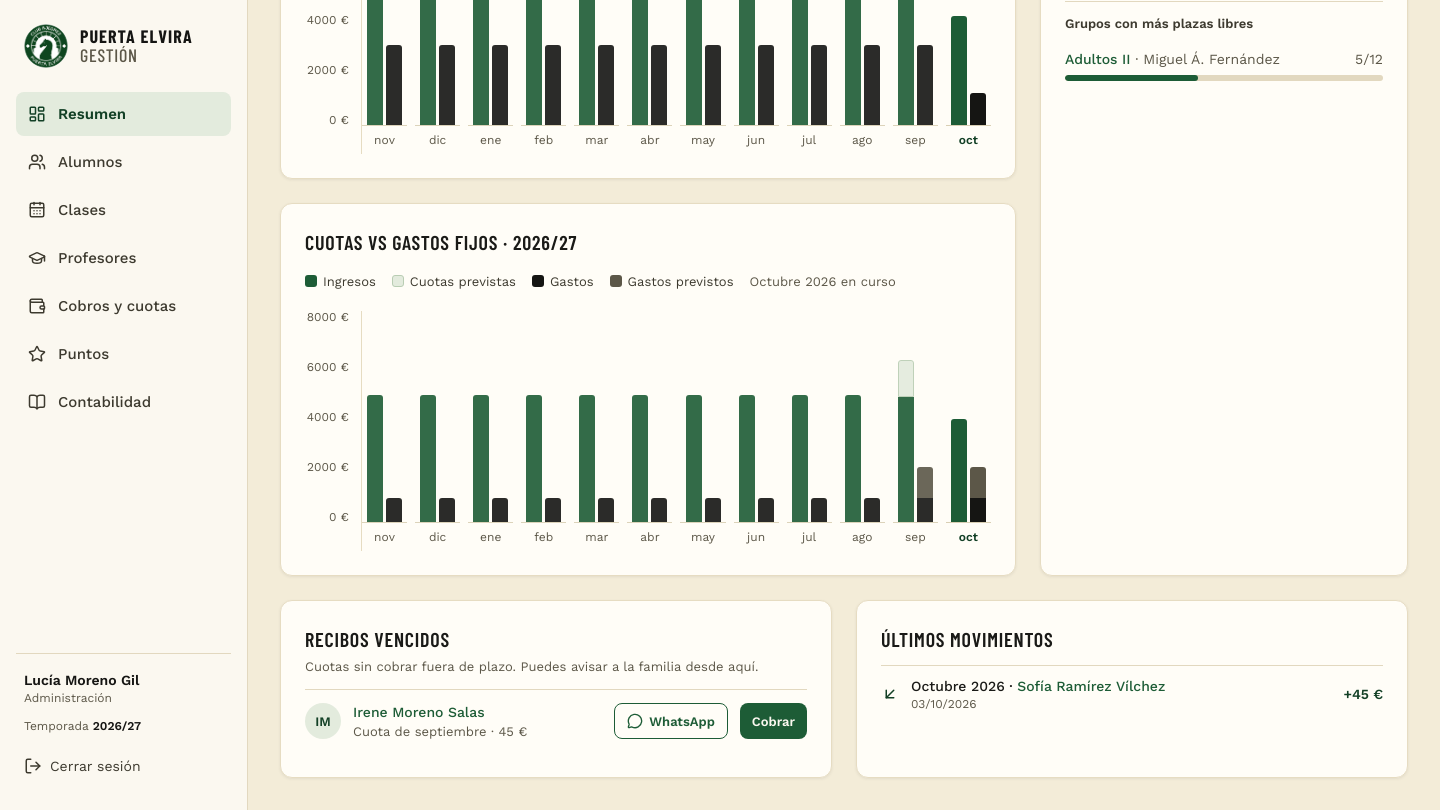
Resumen › opens the payment dialog from an overdue charge
(page scrolled)
Click the button "Cobrar" at (773, 721), box [740,703,807,739]
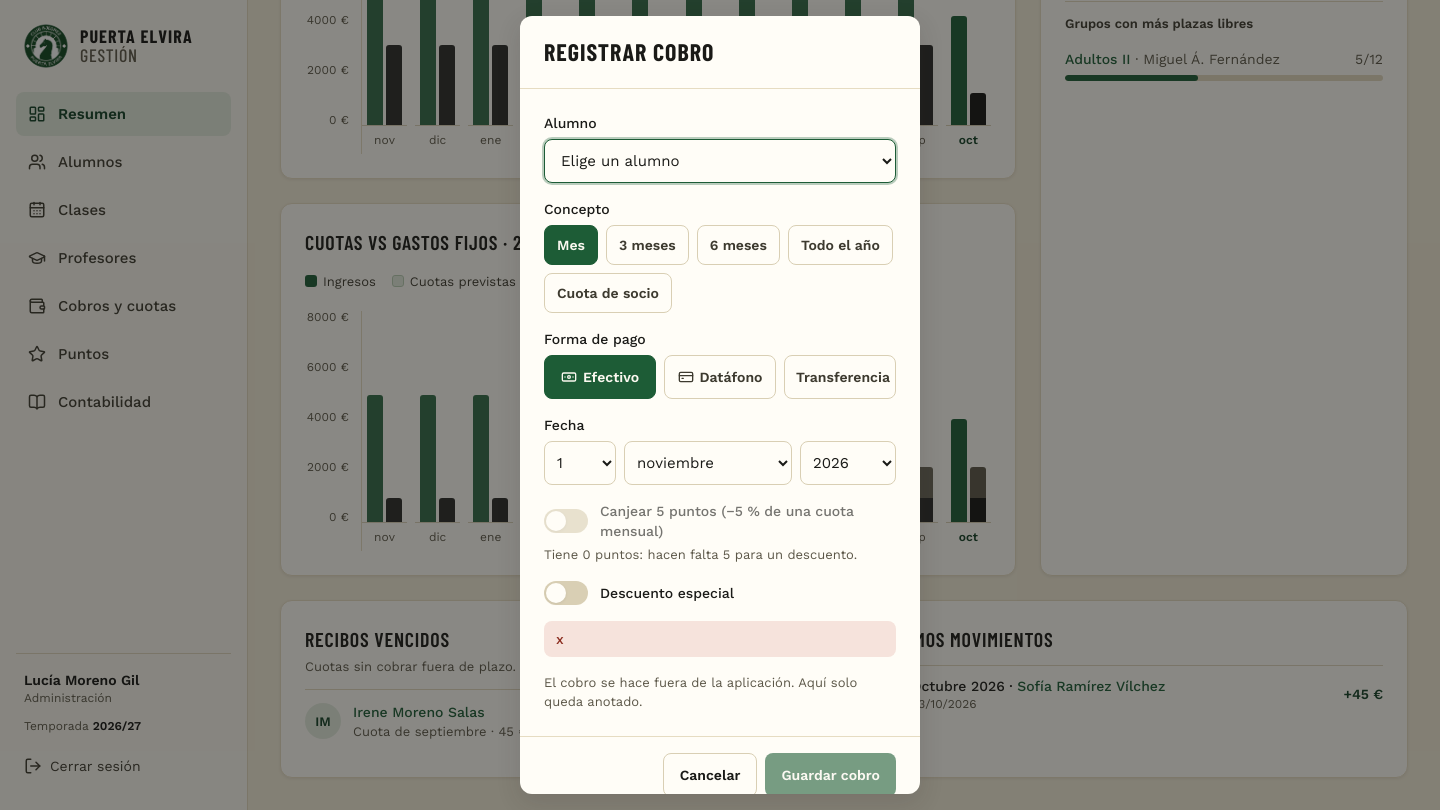
Check: the dialog "Registrar cobro" is shown, box [520,16,920,794]
